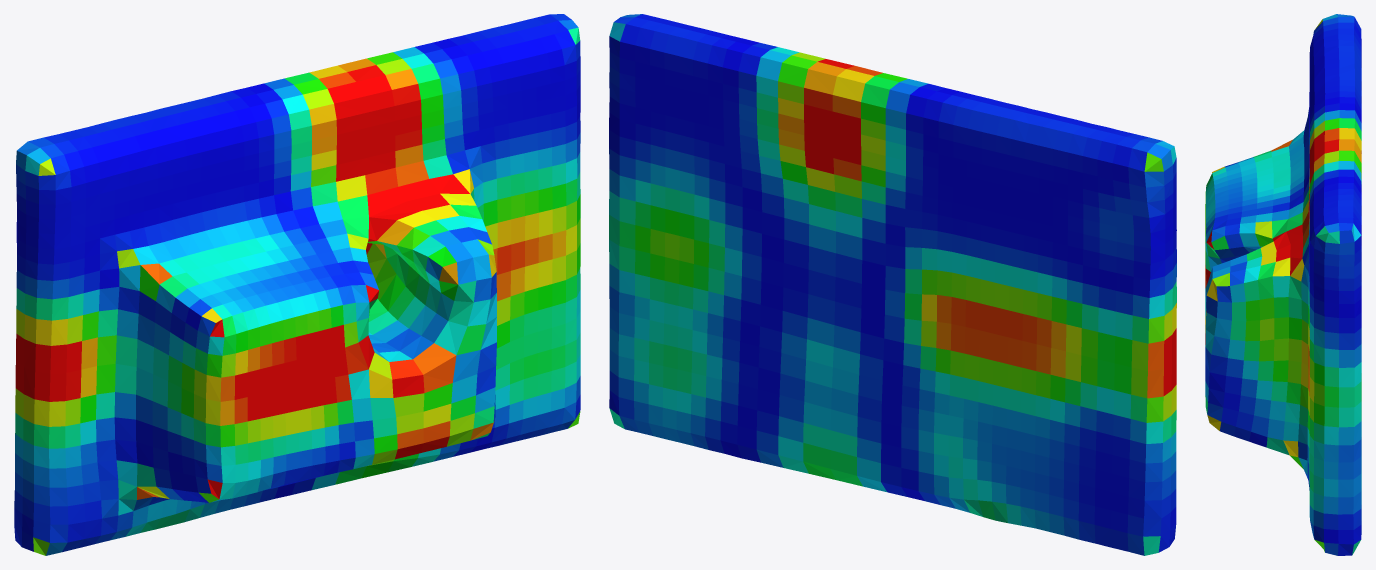
The model's file is drillhole_no_opt_quality.obj.
3 renders of one model, left to right at view 1: azimuth 30°, elevation 25°; view 2: azimuth 150°, elevation 25°; view 3: azimuth 270°, elevation 25°, orthographic. The views are drawn at different scales.
Size of the model in its own units: 199 by 140 by 60.
